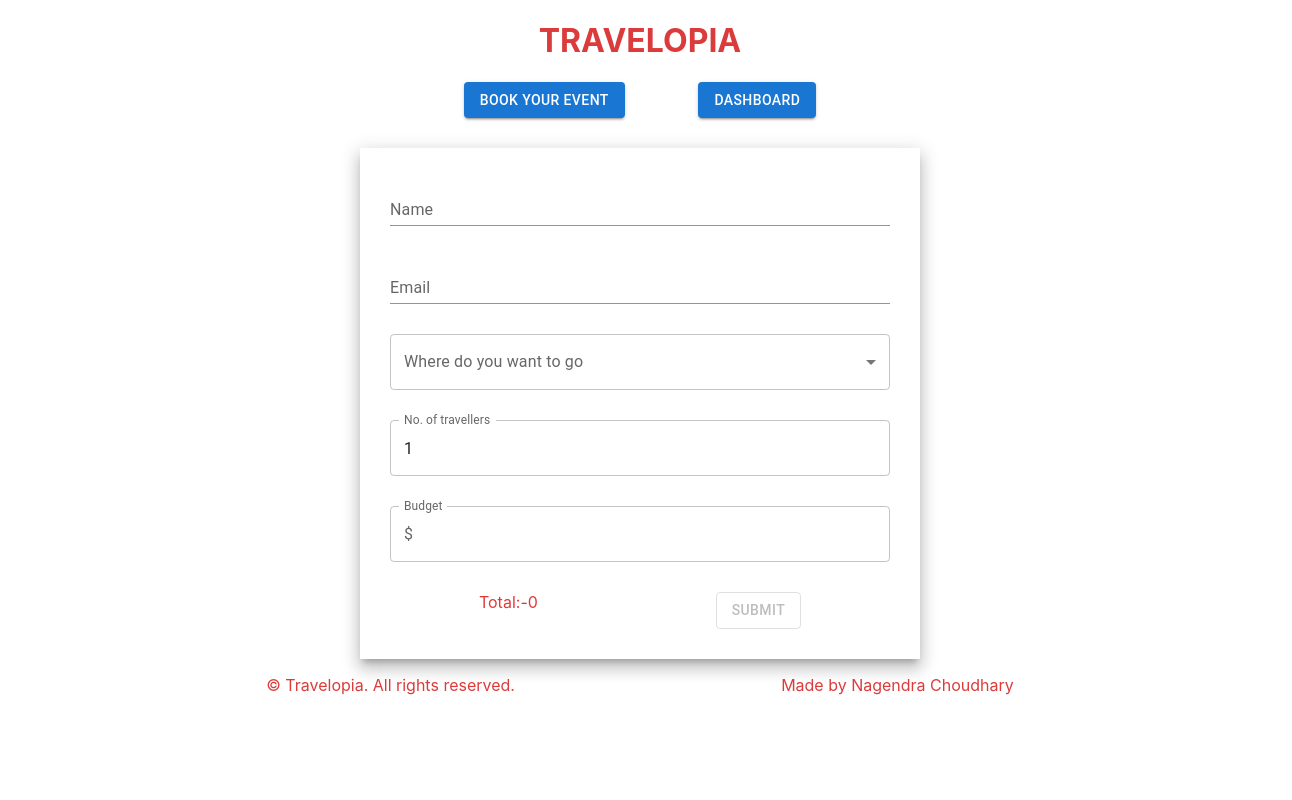
Test: travelopia app testing › dashboard button should work
What coordinates should you click on to do the following:
click the button "Dashboard"
I would click on:
 (757, 101)
Its box is 698,82 -> 816,119.
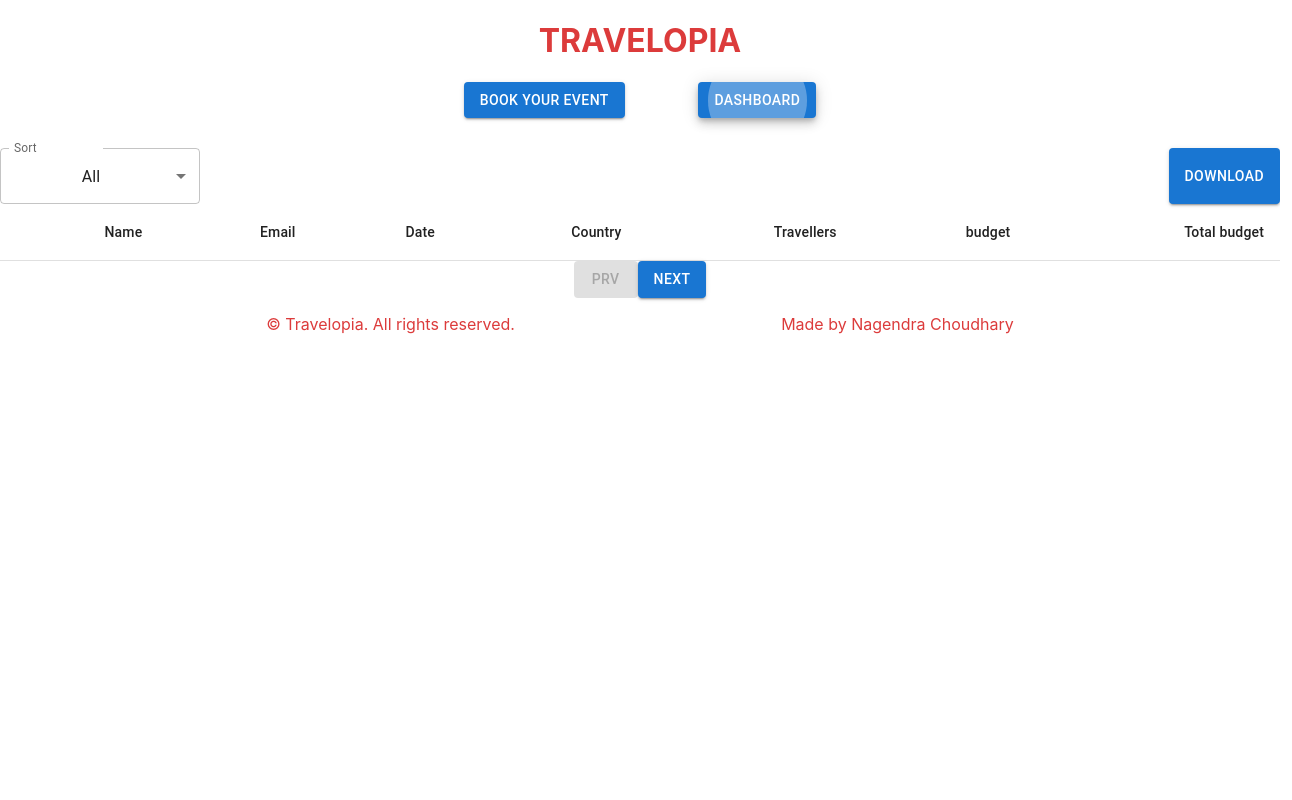
Result: the element that starts with "Sort" is shown at 0,148 -> 1280,298
